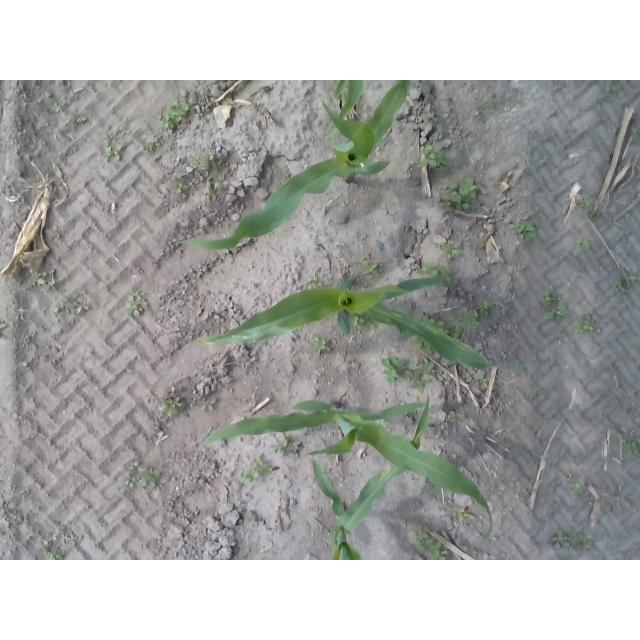Maize: (197, 402, 494, 538), (179, 82, 408, 251), (197, 273, 491, 371), (310, 394, 431, 560), (327, 80, 363, 136)
Weeds: (53, 294, 89, 322), (124, 461, 161, 487), (240, 454, 273, 482), (406, 357, 435, 380), (381, 357, 403, 383), (449, 178, 477, 196), (422, 146, 446, 167), (544, 302, 568, 323), (457, 311, 479, 333), (274, 439, 302, 456), (126, 296, 147, 317), (167, 103, 189, 122), (191, 154, 214, 171), (612, 276, 636, 292), (515, 220, 538, 236), (442, 241, 460, 260), (551, 530, 569, 549), (418, 263, 443, 275), (314, 338, 330, 354), (454, 195, 470, 211), (440, 268, 456, 284), (362, 261, 379, 275), (411, 378, 429, 391), (577, 534, 592, 549), (104, 145, 120, 159), (627, 438, 640, 455), (430, 542, 443, 559), (457, 508, 474, 520), (574, 321, 590, 333), (148, 136, 161, 150), (418, 527, 430, 542), (476, 378, 489, 391), (201, 400, 215, 412), (479, 300, 490, 315), (206, 182, 217, 197), (440, 194, 453, 206), (48, 102, 61, 114), (569, 479, 584, 489), (49, 550, 63, 560), (163, 115, 173, 129), (176, 183, 189, 193), (170, 397, 181, 408), (163, 406, 174, 417), (606, 81, 618, 91), (74, 113, 86, 123), (581, 198, 591, 207), (354, 316, 364, 325), (543, 289, 551, 300), (310, 280, 322, 287), (579, 239, 589, 246), (487, 96, 493, 107), (0, 320, 6, 330), (38, 279, 46, 285)
